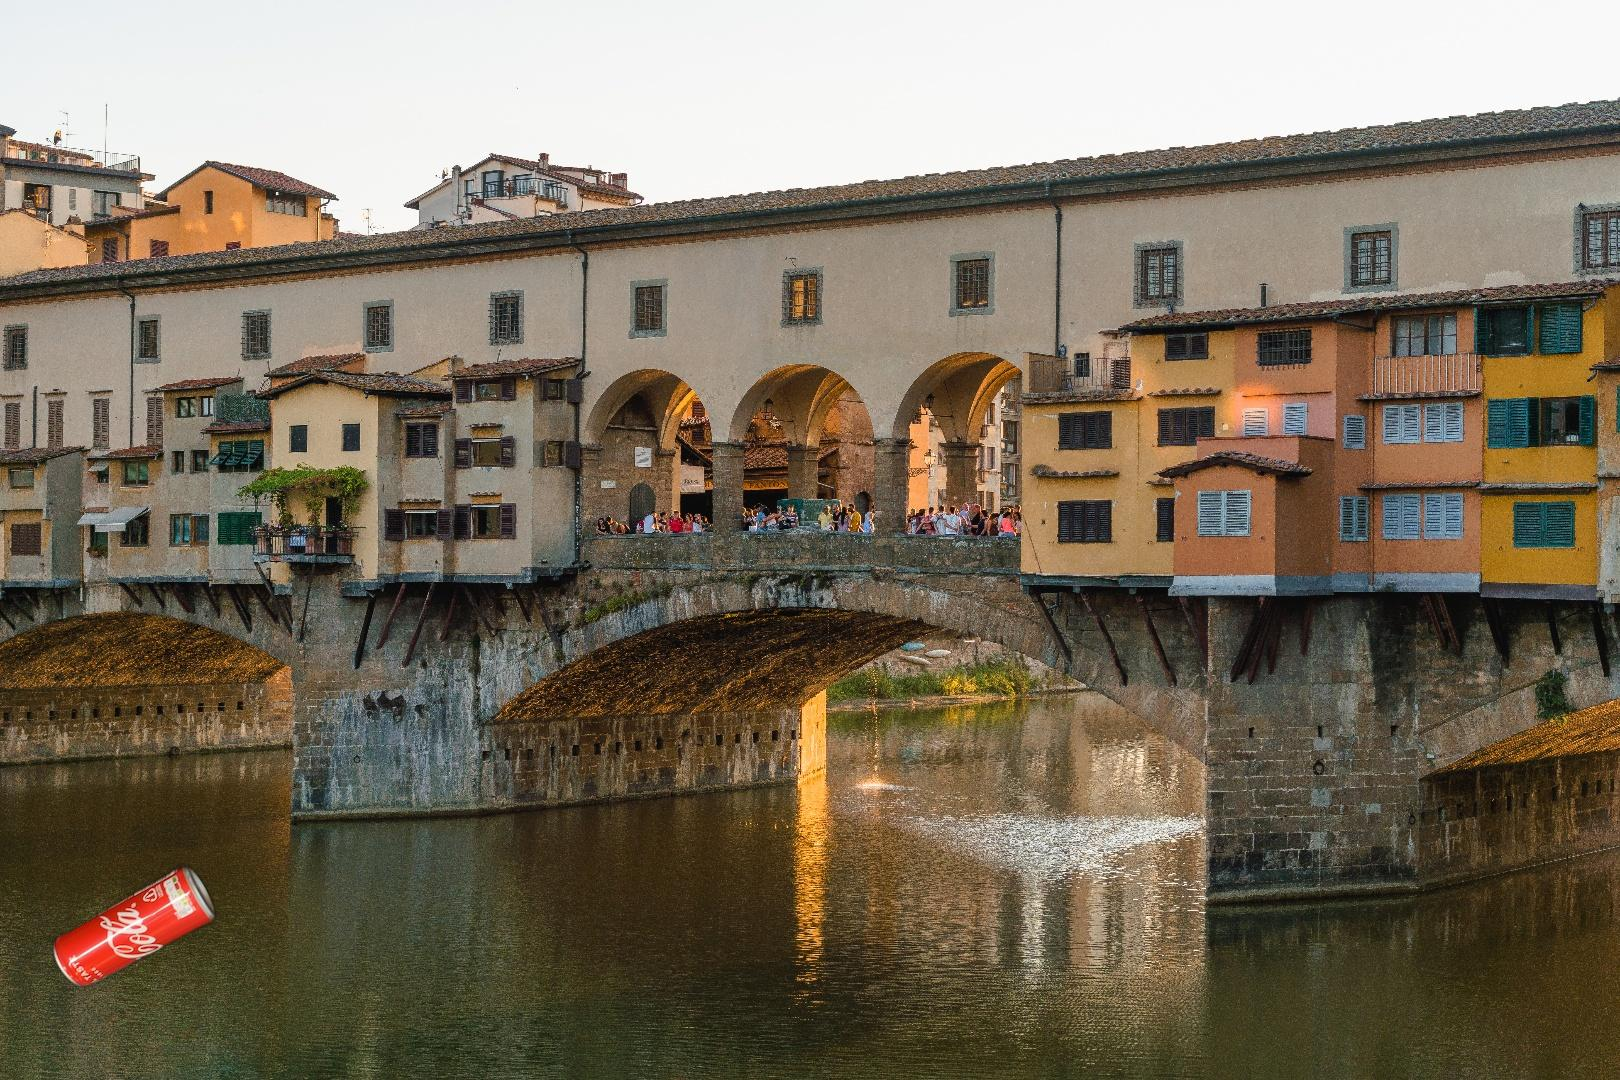metal-cans: (49, 858, 221, 994)
